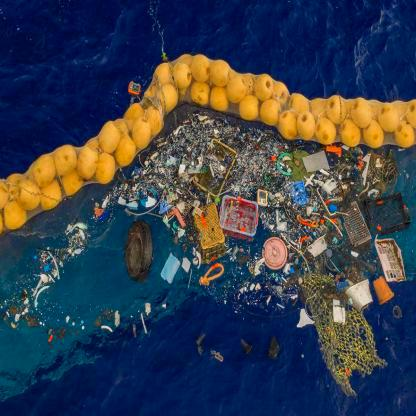Plastic: (217, 193, 259, 241), (382, 234, 404, 282), (264, 233, 288, 272), (351, 277, 375, 309)
Trash: (122, 225, 149, 282)
